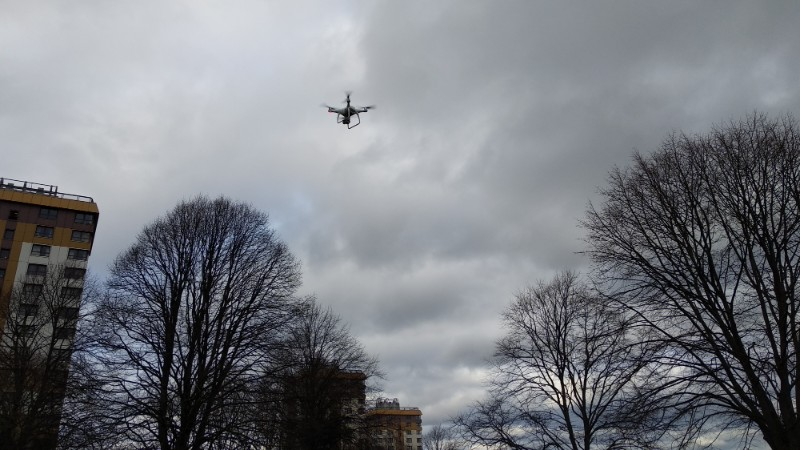drone: (321, 92, 378, 130)
